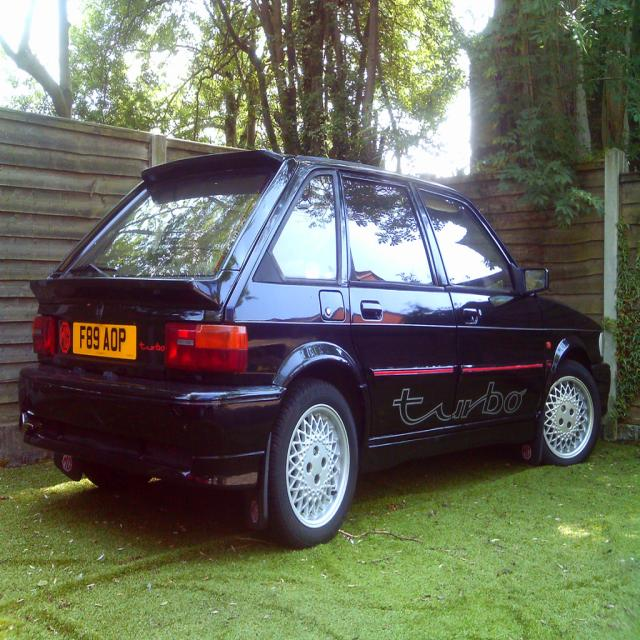car: (16, 146, 605, 548)
